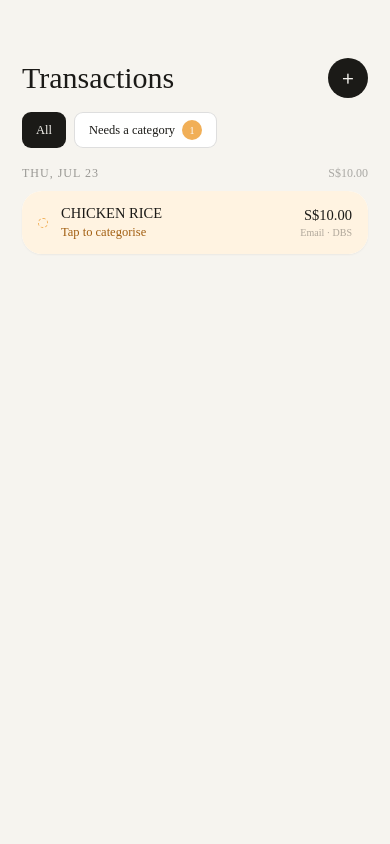
Scenario: the detail sheet shows the transaction time, not just the date
The width and height of the screenshot is (390, 844).
Click the element with test id "transaction-1": [195, 222] box top-left (22, 191), bottom-right (368, 254)
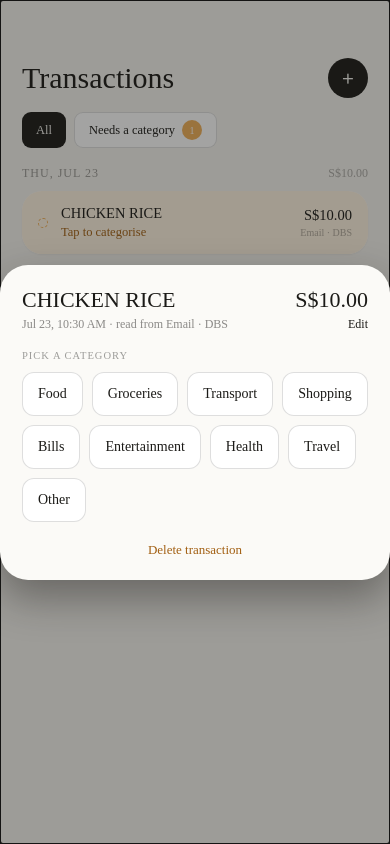
expect the text "Jul 23, 10:30 AM · read from Email · DBS" is shown: met, box top-left (22, 316), bottom-right (228, 332)
